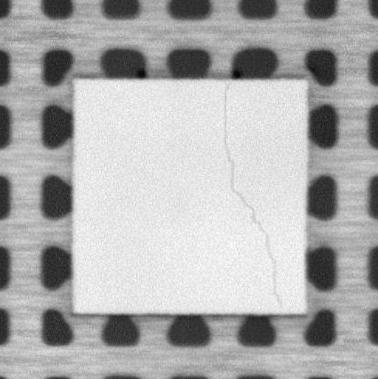DIE_CRACK: (221, 82, 282, 305)
